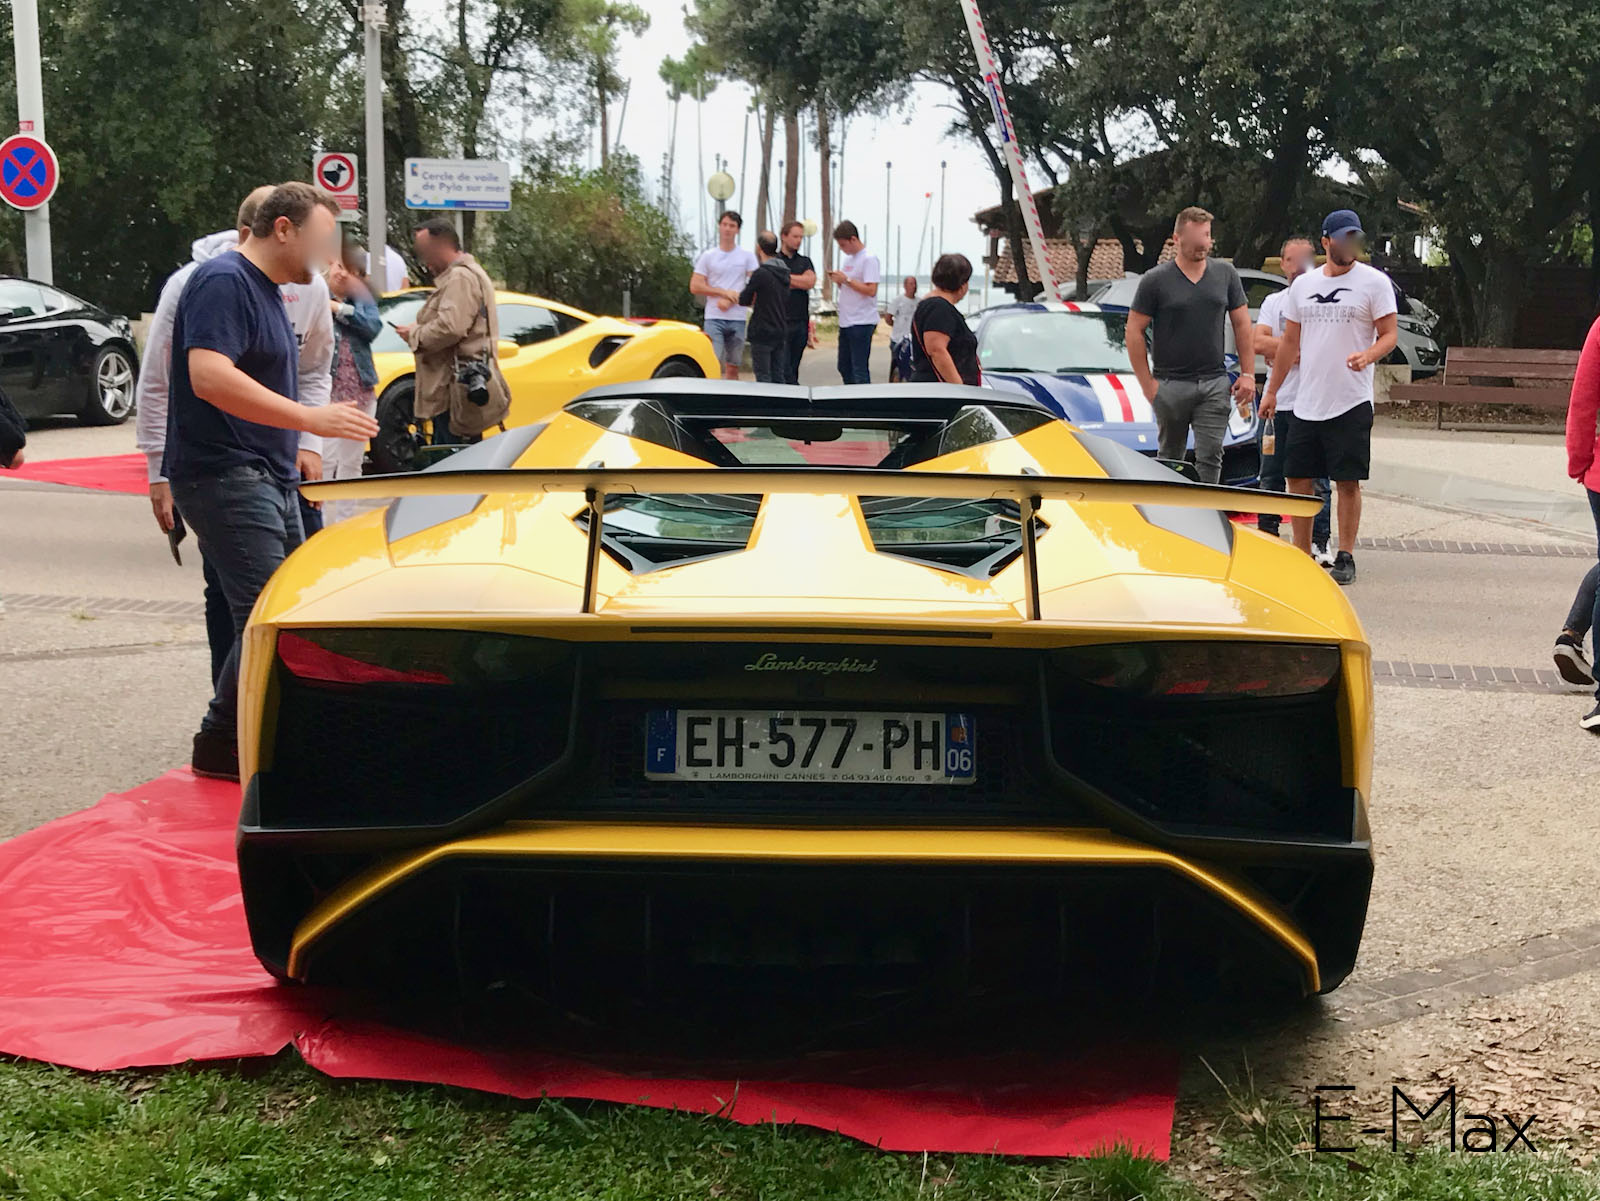licence plate: (636, 698, 984, 791)
